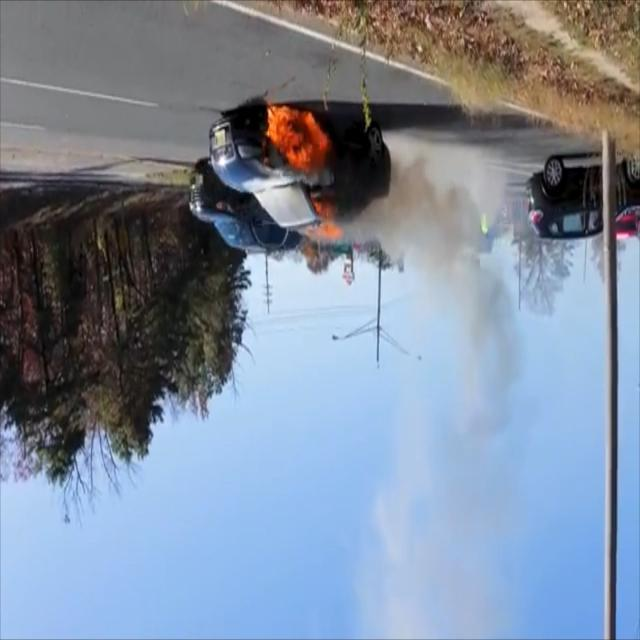fire: (266, 102, 343, 240)
